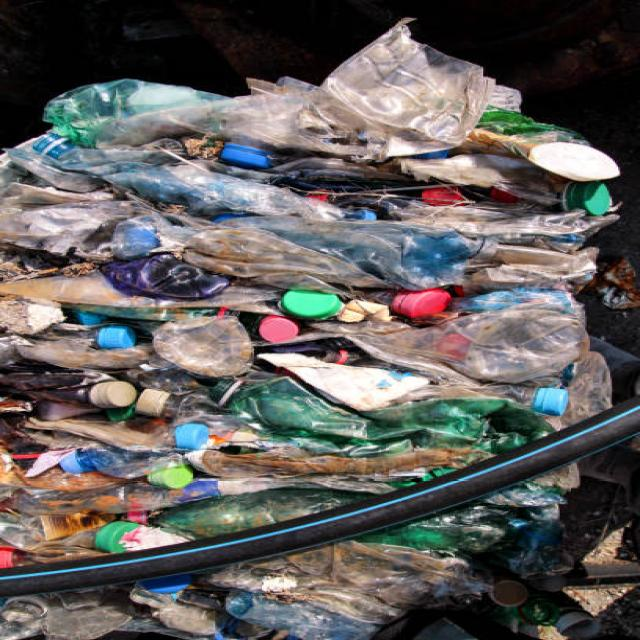plastic: (1, 114, 548, 424)
